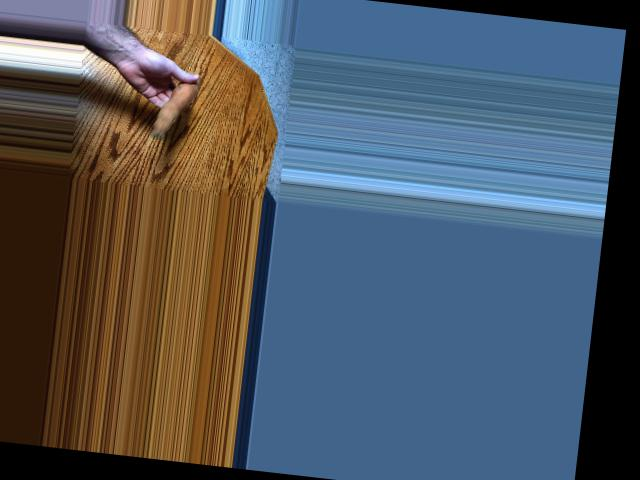sweet_potato: (144, 65, 202, 145)
